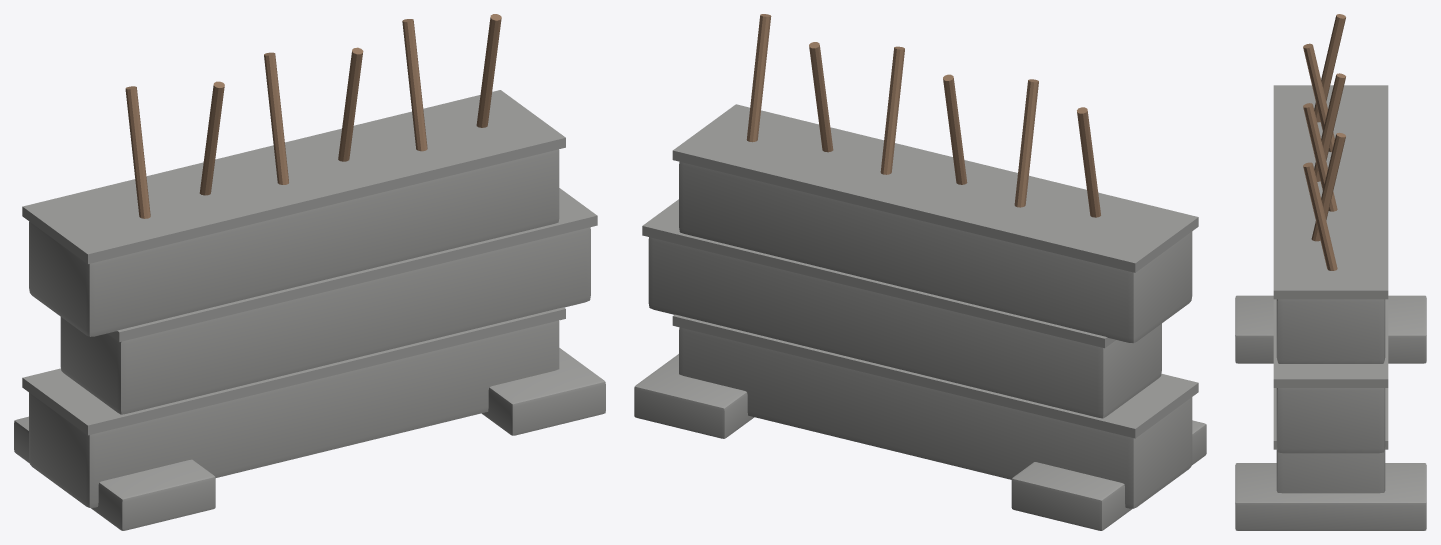
File: DD_barricade_concrete.fbx
3 views of the same model, side by side, from view 1: azimuth 30°, elevation 25°; view 2: azimuth 150°, elevation 25°; view 3: azimuth 270°, elevation 25° (orthographic). The views are drawn at different scales.
Parts seen in each view (by area): view 1: DD_barricade_concrete; view 2: DD_barricade_concrete; view 3: DD_barricade_concrete.
Part boxes in pixels (x1,y1,x2,y2): DD_barricade_concrete: [14, 14, 605, 530]; DD_barricade_concrete: [634, 14, 1206, 530]; DD_barricade_concrete: [1235, 14, 1426, 530].
Size of the model in its own units: 1.62 by 1.17 by 0.6.
